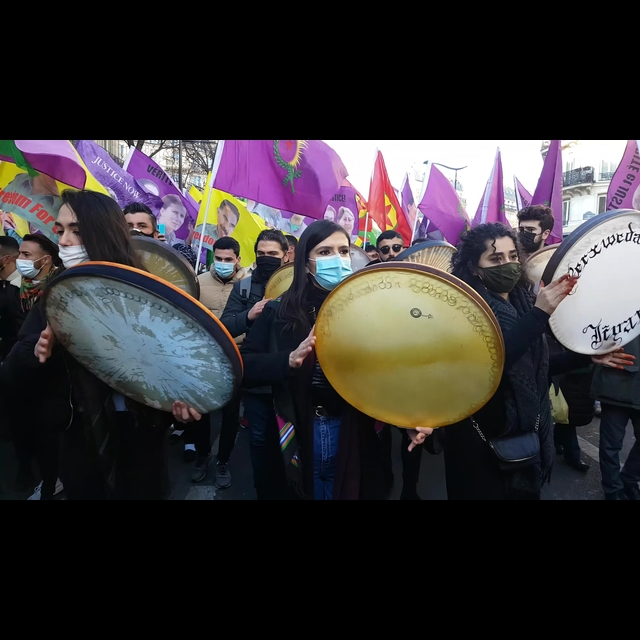APO: (215, 200, 240, 238)
